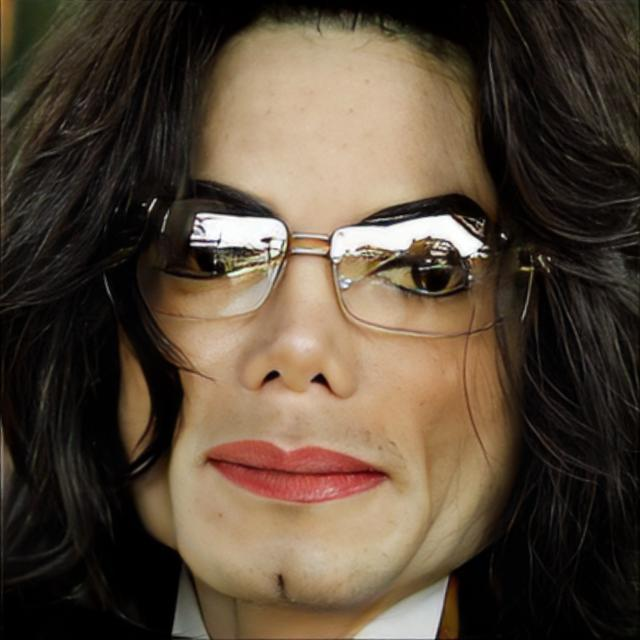content: (99, 14, 542, 606)
